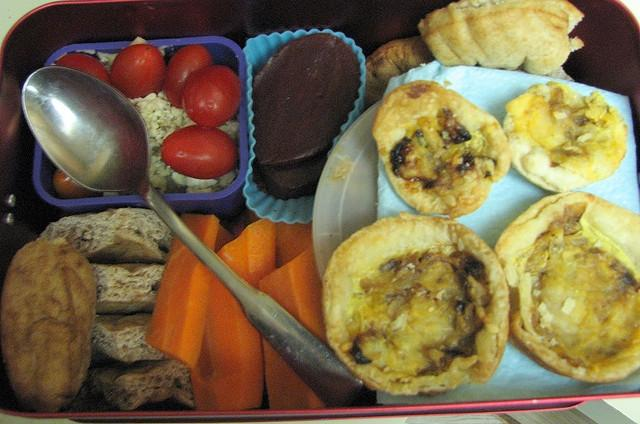carrot: (187, 234, 264, 410), (146, 214, 220, 368), (258, 244, 326, 409), (238, 219, 276, 290), (276, 221, 312, 268)
tomato: (160, 124, 238, 179), (182, 65, 242, 128), (110, 44, 166, 100), (165, 45, 212, 109), (56, 52, 112, 86), (53, 169, 100, 200)
